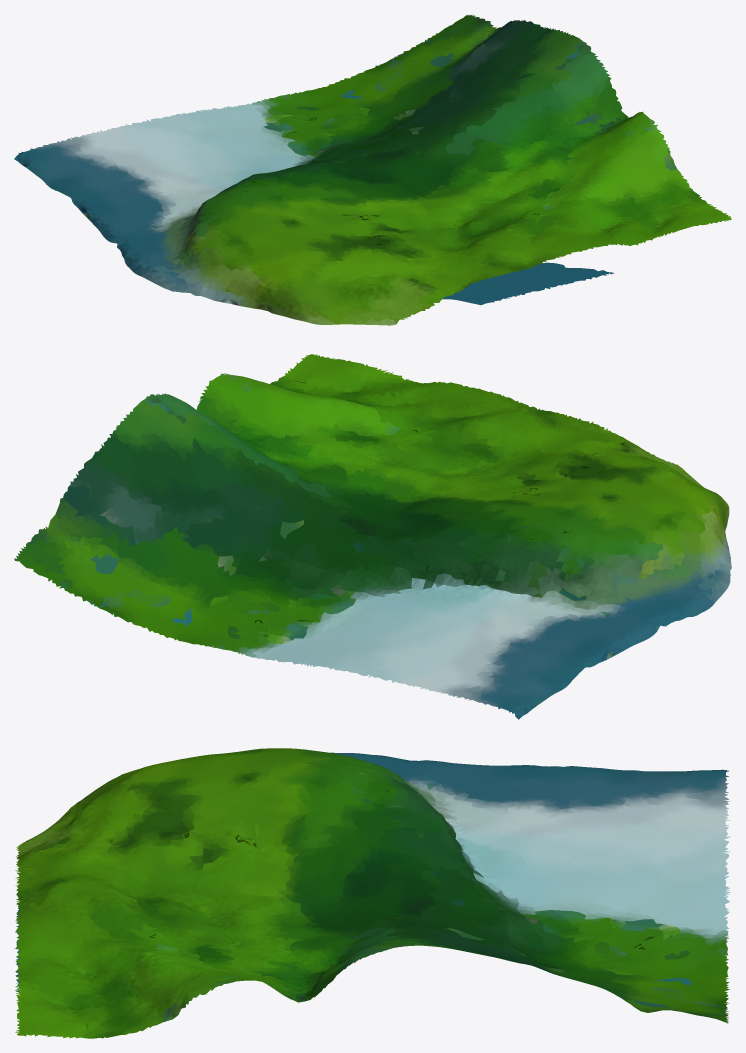
File: chunk_0_2_LOD0.glb
3 views of the same model, one above another, from view 1: azimuth 30°, elevation 25°; view 2: azimuth 150°, elevation 25°; view 3: azimuth 270°, elevation 25° (orthographic). The views are drawn at different scales.
Visible parts, largest first — view 1: chunk_0_2_LOD0; view 2: chunk_0_2_LOD0; view 3: chunk_0_2_LOD0.
Boxes of the visible parts, x1,y1,x2,y2 form: chunk_0_2_LOD0: (14,14,731,325); chunk_0_2_LOD0: (14,354,731,719); chunk_0_2_LOD0: (14,748,730,1038).
Size of the model in its own units: 102 by 19.56 by 98.47.
1 material, 1 textured.
